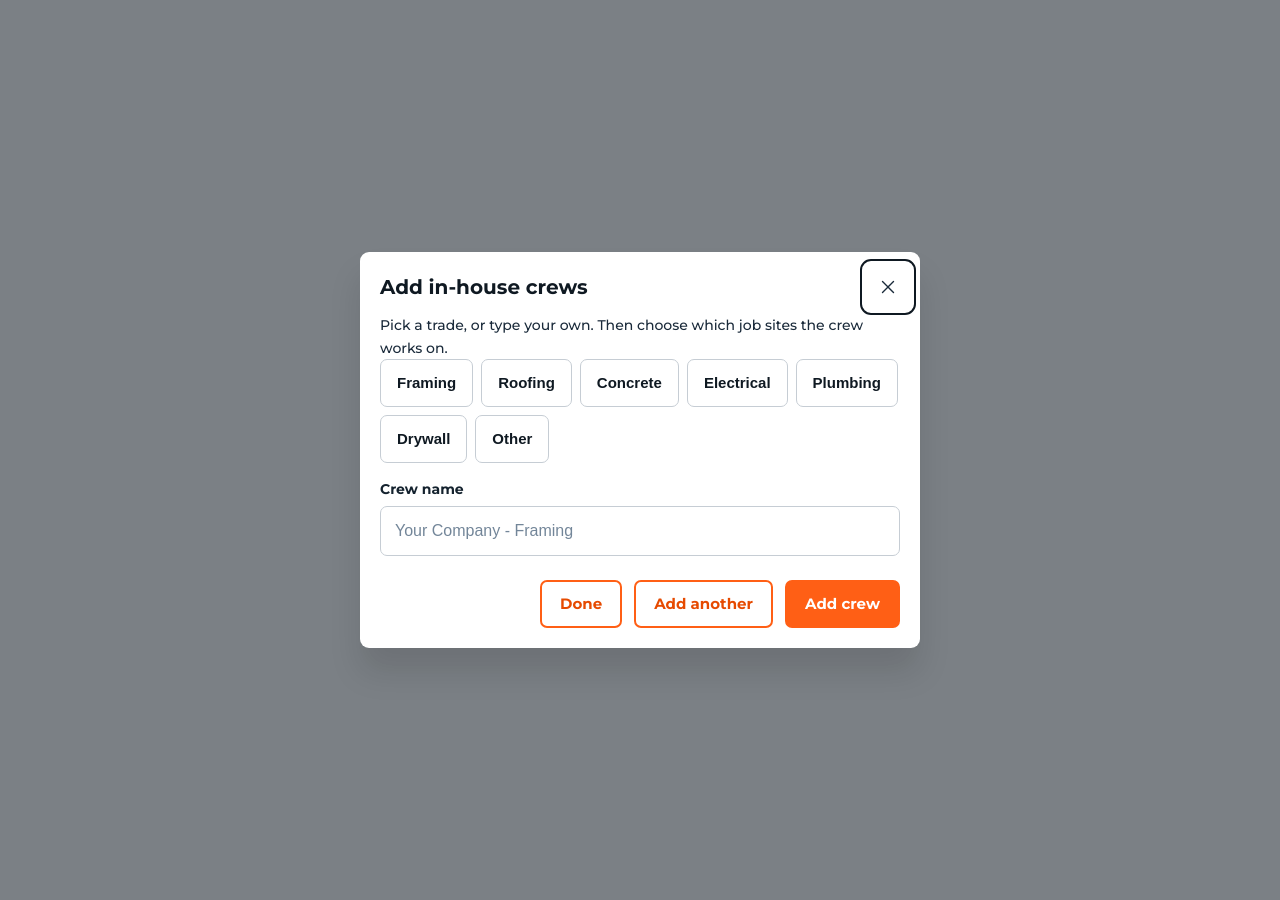
it: CrewForm › creates the crew, then offers to invite its foreman instead of closing
Type "  Hyperion - Framing  " into the field labelled "Crew name" at (640, 531), box 380,506 -> 900,556
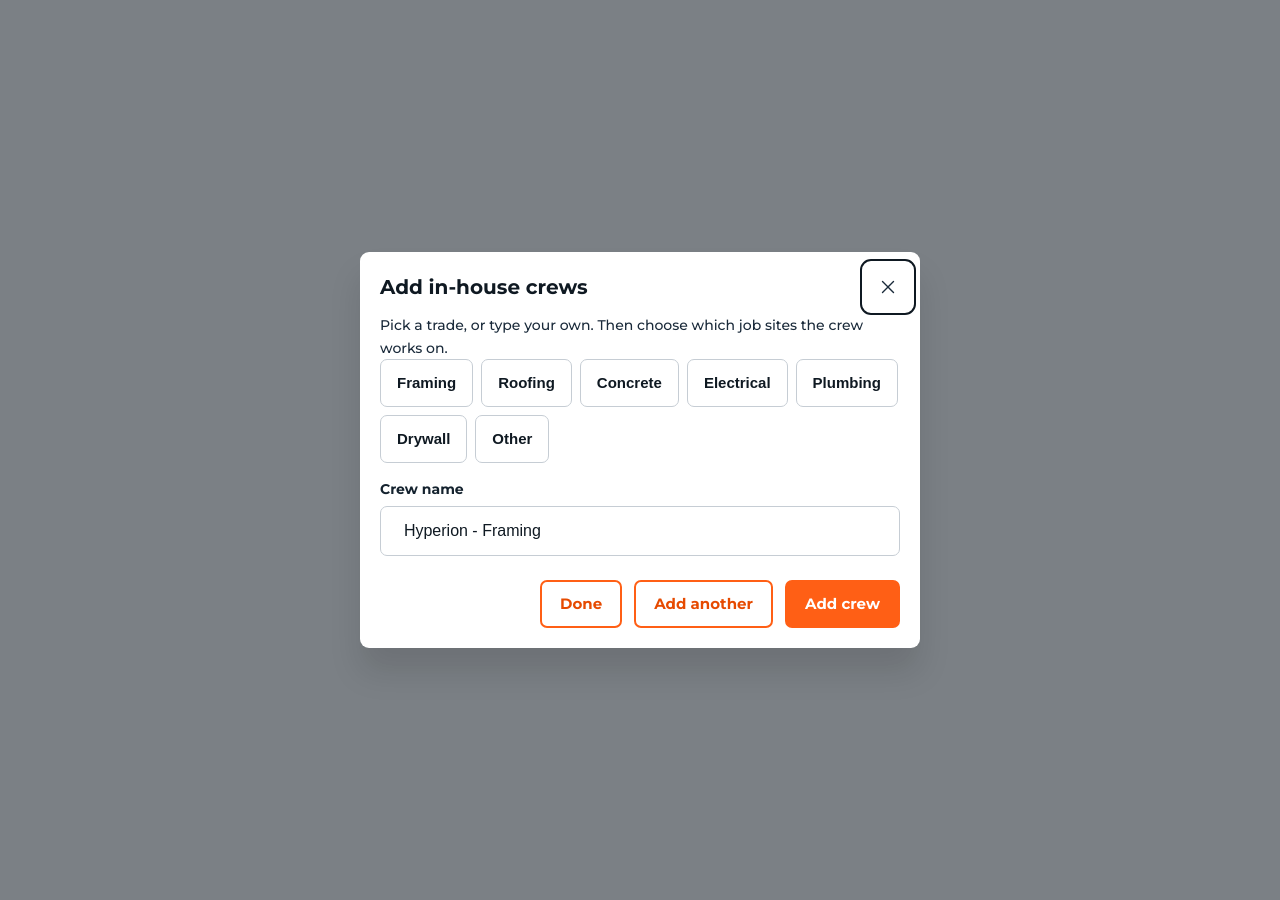
Click the button "Add crew" at (842, 604), box 785,580 -> 900,628
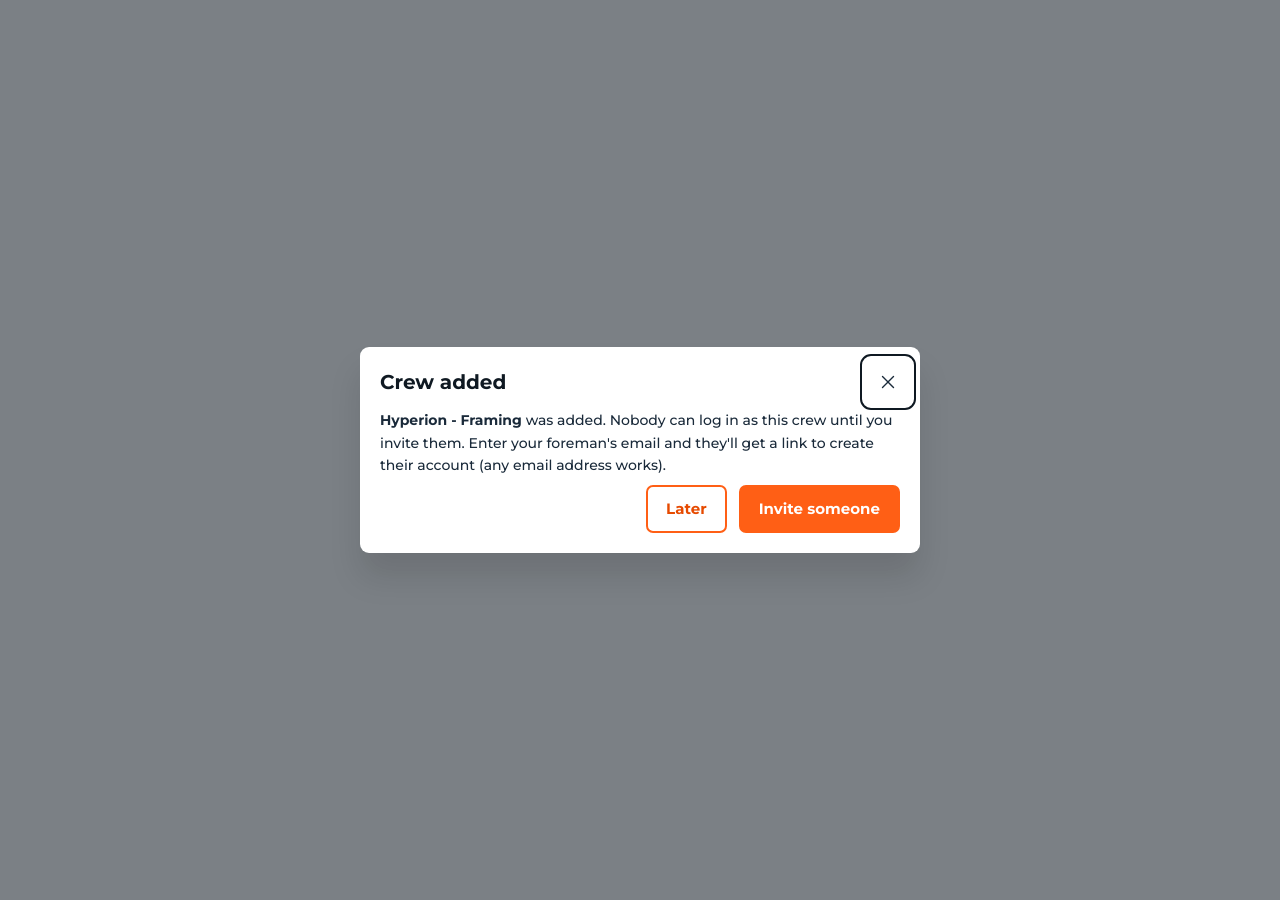
Result: the dialog "Crew added" is shown at 360,347 -> 920,553
Result: the text "nobody can log in as this crew until you invite them" is shown at 380,411 -> 892,474
